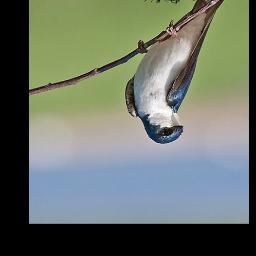Swallow: (124, 0, 226, 146)
